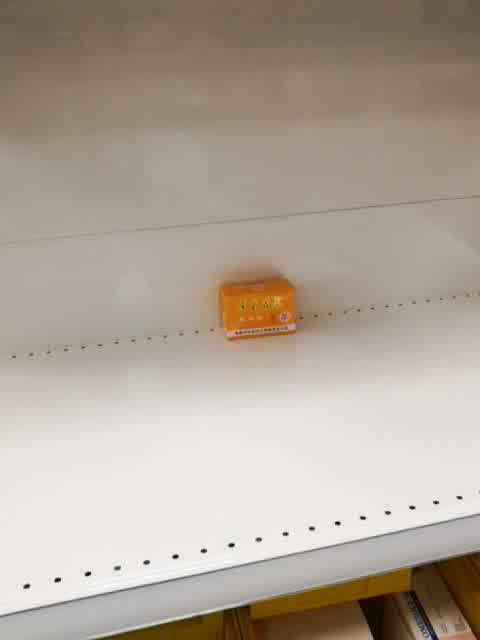jasminetea: (219, 277, 297, 340)
